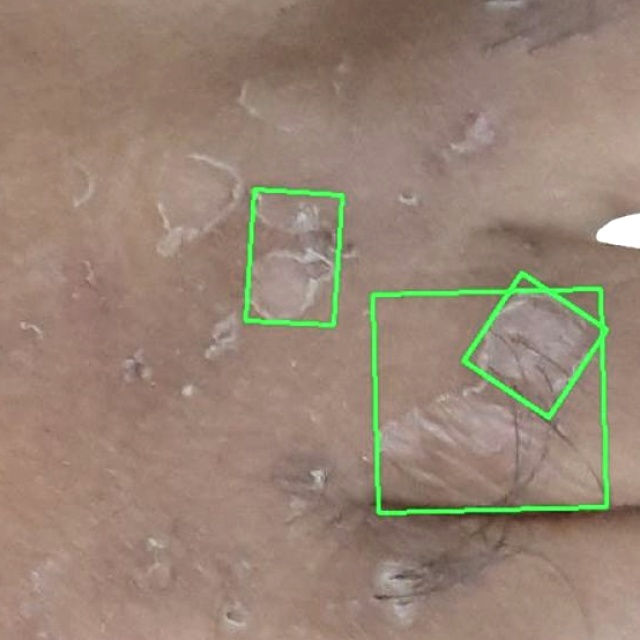Eczema: (371, 288, 605, 512), (462, 272, 606, 416), (245, 189, 341, 324)
